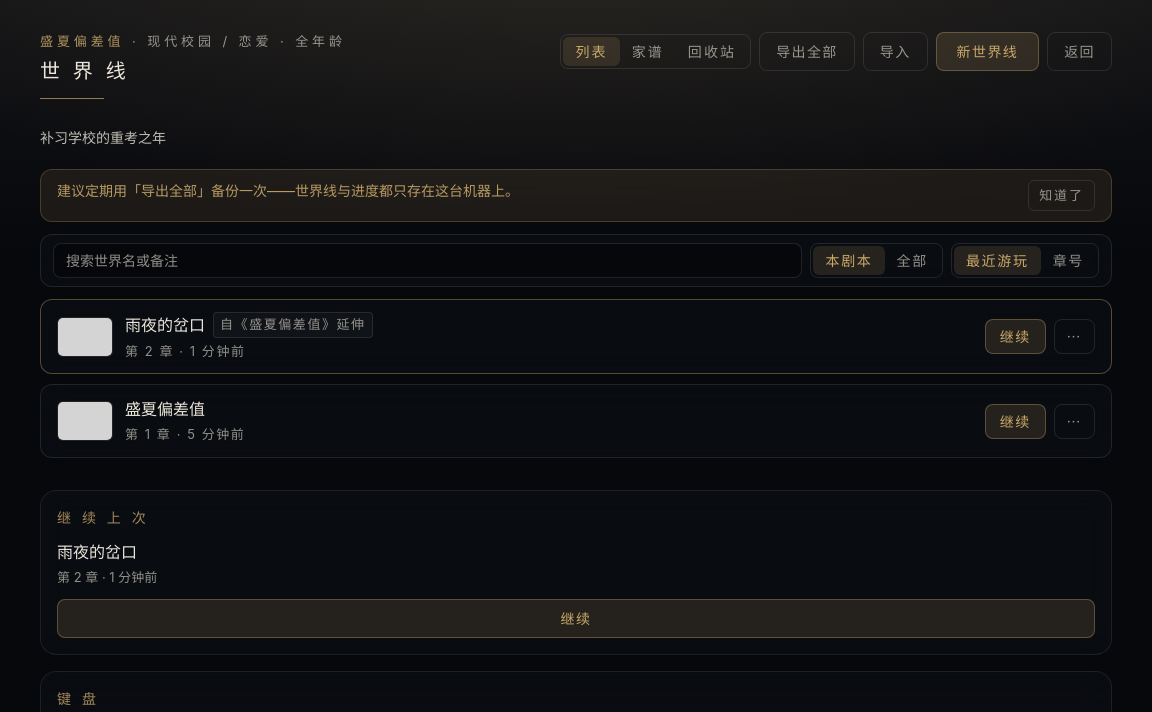
Test: WorldsScreen：改名 / 导出 / 导入（v1.6） › 改名失败：编辑器留在原地（玩家改的内容不丢），失败落在提示位
The image size is (1152, 712).
Press the mouse on the button with test id "world-menu-campus-summer-2" at x=1074, y=337, box [1054,319,1095,354]
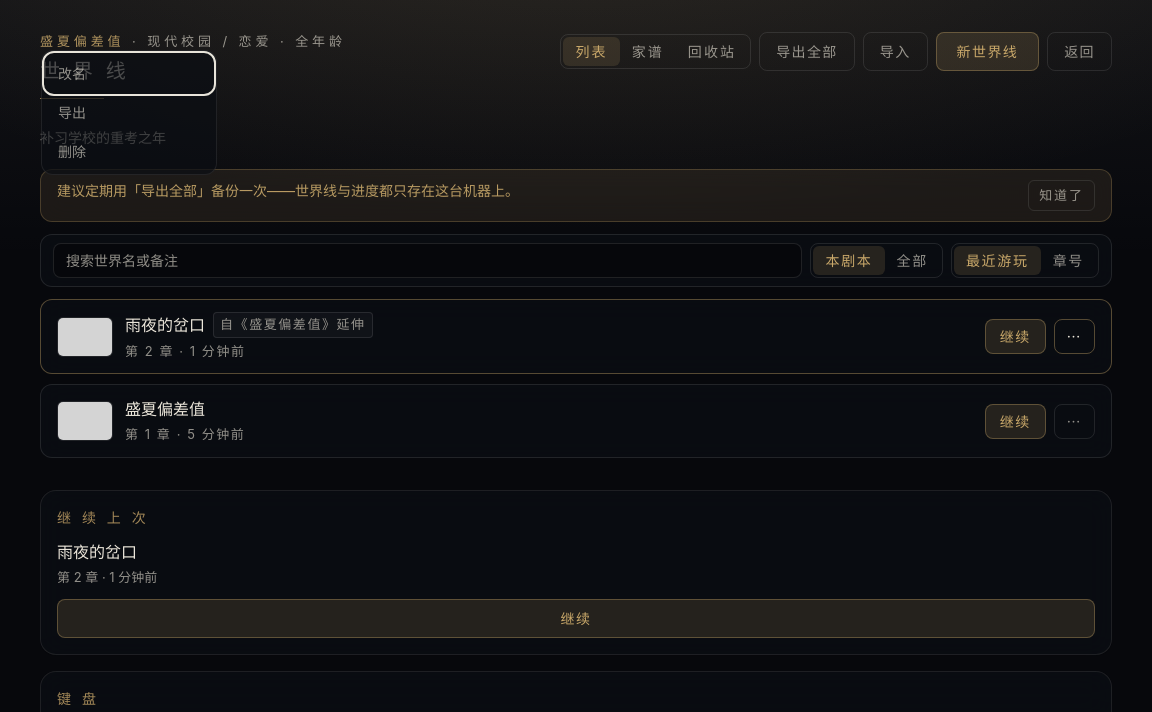
Click the menu item with test id "world-edit-campus-summer-2" at x=129, y=74, box [46,55,212,92]
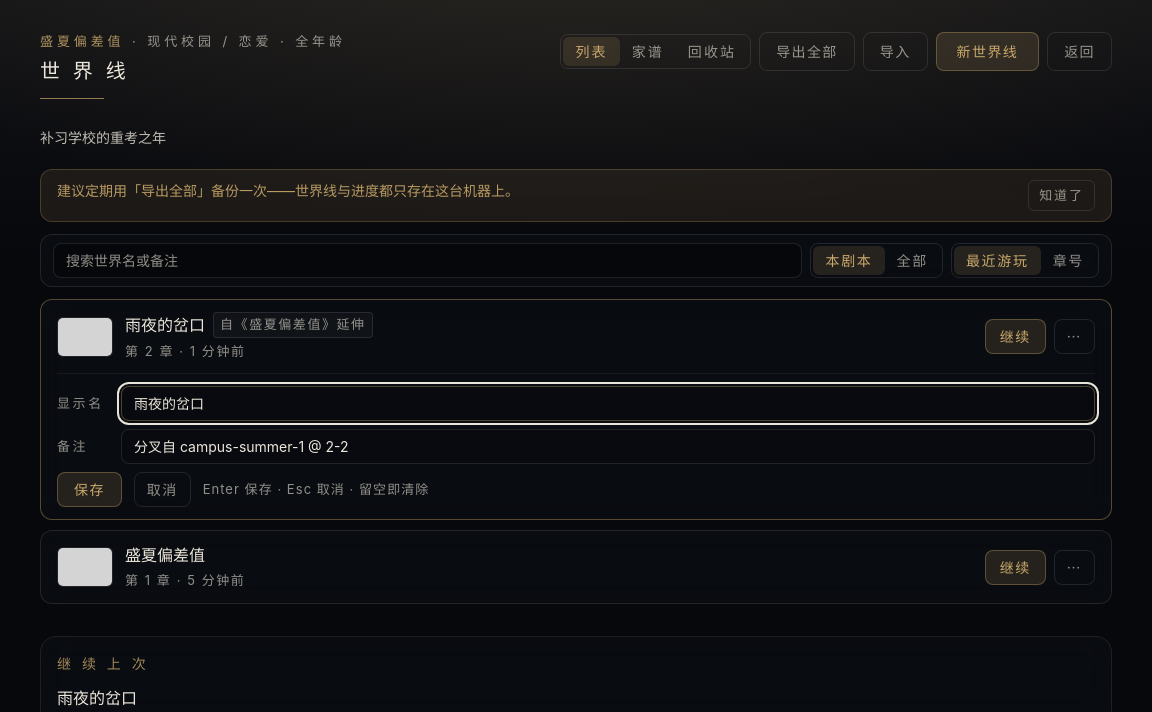
Replace the text in the field with test id "world-edit-label-campus-summer-2" with "太长的名字" at x=608, y=404, box [121,386,1095,421]
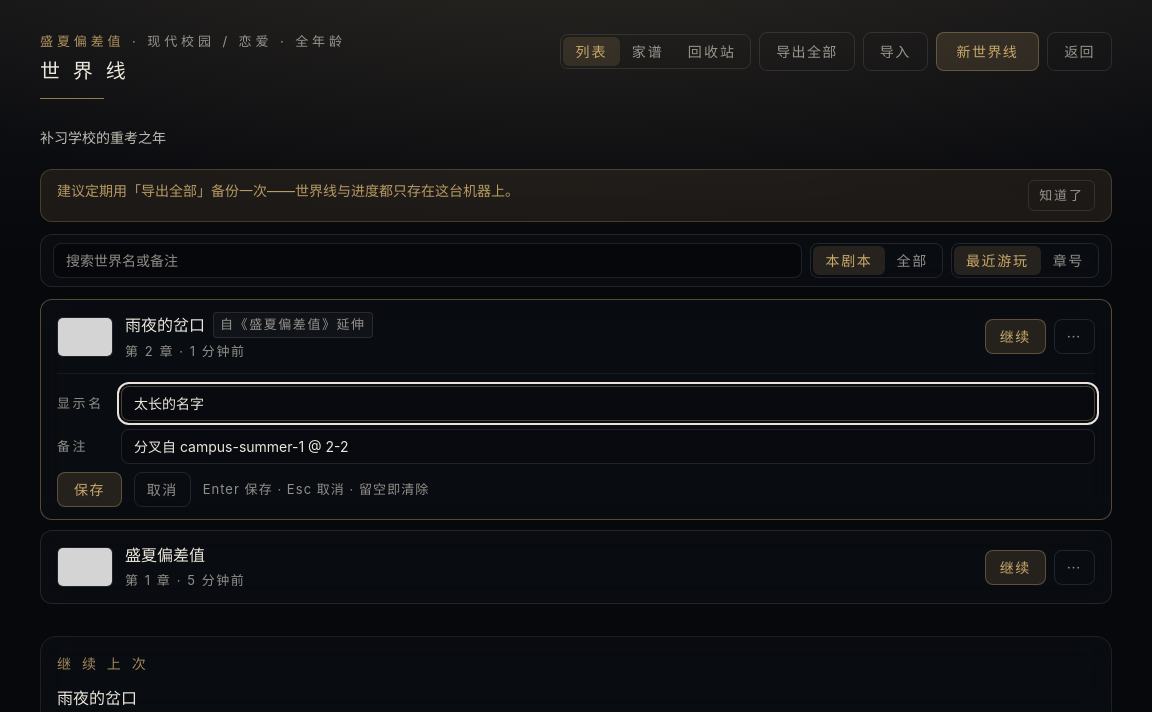
Click the button with test id "world-edit-save-campus-summer-2" at x=89, y=490, box [57,472,122,507]
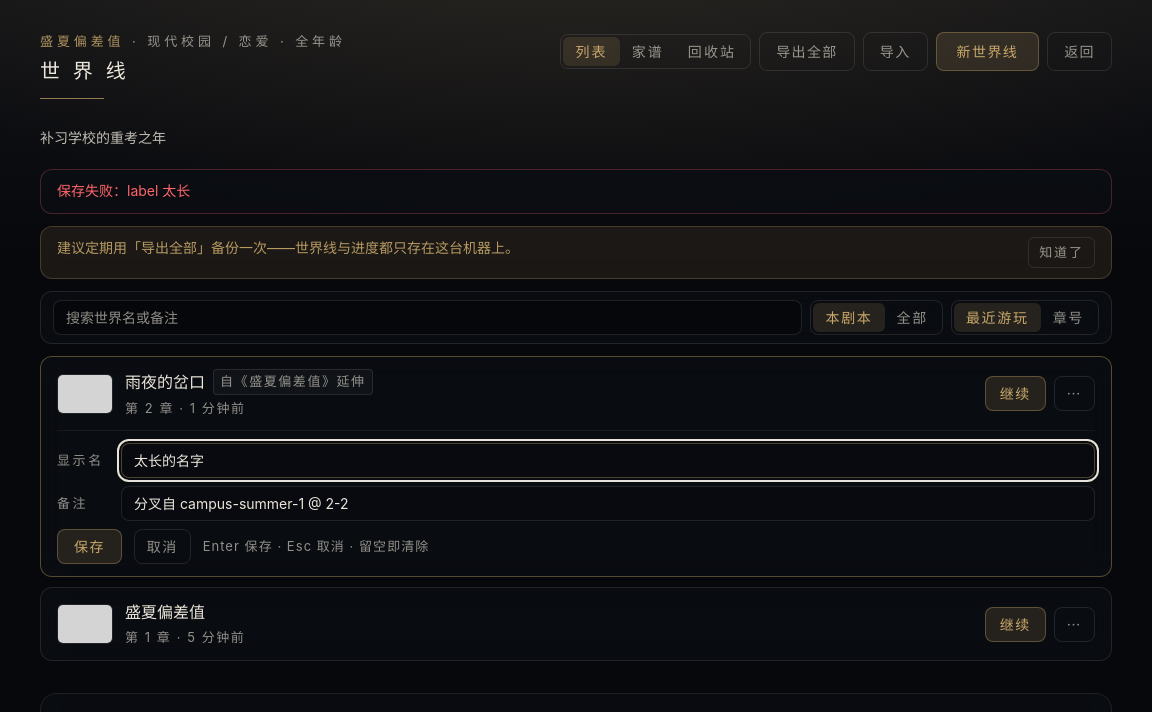
Expected: the element with test id "world-editor-campus-summer-2" is shown, [57,430,1095,564]
Expected: the message with test id "worlds-notice" reads "保存失败：label 太长", [57,182,190,199]
